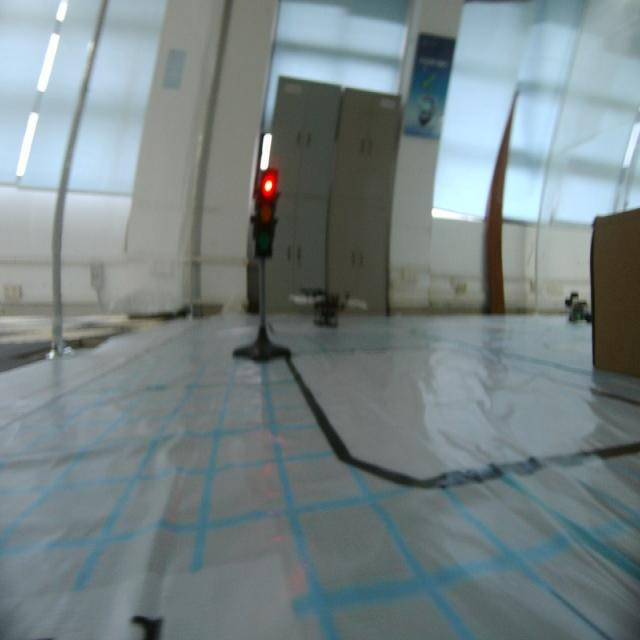red: (256, 165, 278, 264)
